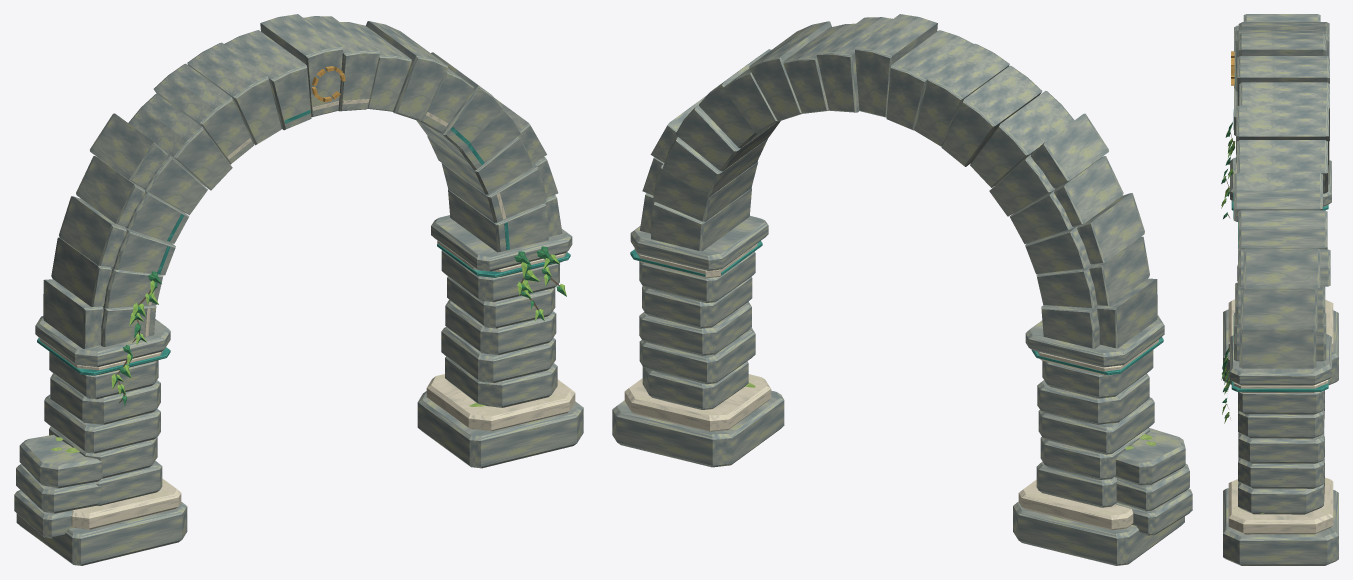
The model's file is RuinedHeliographArch.fbx.
3 views of the same model, side by side, from view 1: azimuth 30°, elevation 25°; view 2: azimuth 150°, elevation 25°; view 3: azimuth 270°, elevation 25° (orthographic). The views are drawn at different scales.
Parts seen in each view (by area): view 1: RuinedHeliographArch; view 2: RuinedHeliographArch; view 3: RuinedHeliographArch.
Part boxes in pixels (<box>): RuinedHeliographArch: <box>14,14,583,565</box>; RuinedHeliographArch: <box>612,14,1192,565</box>; RuinedHeliographArch: <box>1221,14,1338,565</box>.
Size of the model in its own units: 1135 by 909 by 236.
Materials: 1 (1 with a texture image).
